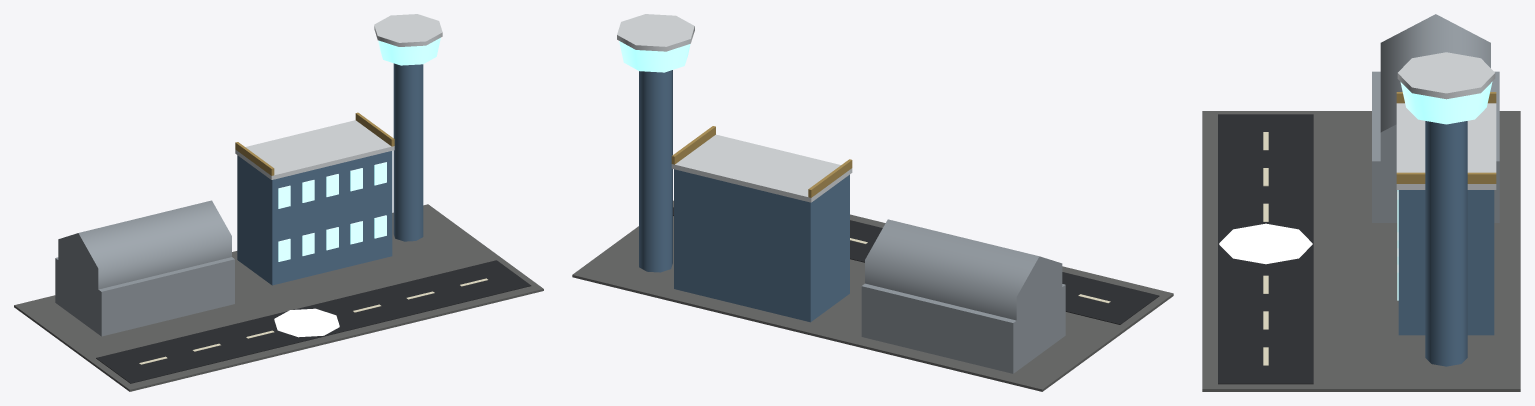
File: bld_special_airport_a10_lod1.glb
The picture shows the model from 3 angles, left to right: view 1: azimuth 30°, elevation 25°; view 2: azimuth 150°, elevation 25°; view 3: azimuth 270°, elevation 25°; orthographic projection. The views are drawn at different scales.
Parts seen in each view (by area): view 1: body; view 2: body; view 3: body.
Boxes of the visible parts, x1,y1,x2,y2 form: body: [14, 14, 543, 391]; body: [572, 14, 1173, 391]; body: [1202, 14, 1520, 391].
Size of the model in its own units: 31 by 14.95 by 15.
